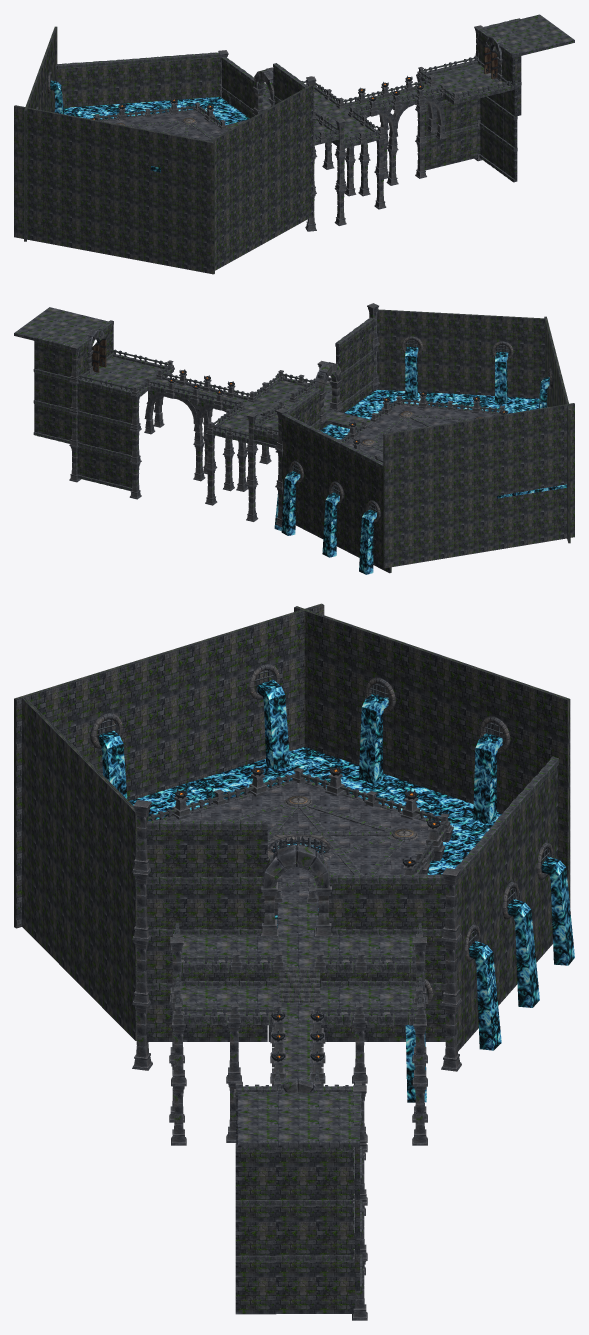
File: LevelBoss.gltf
3 renders of one model, top to bottom at view 1: azimuth 30°, elevation 25°; view 2: azimuth 150°, elevation 25°; view 3: azimuth 270°, elevation 25°, orthographic. The views are drawn at different scales.
Parts seen in each view (by area): view 1: Cube (9), Cube (5), Cube (11), P_MOD_Wall_01_E_straight_large (×12), PolyShape, Cube (10), PolyShape (1), P_MOD_Gateway_Arc_01; view 2: Cube (10), Cube (5), P_MOD_Wall_01_E_straight_large (×16), Cube (11), PolyShape, LavaRiver 1 (×3), Cube (9), PolyShape (2), LavaRiver 1 (3), LavaRiver 1 (2), PolyShape (1), P_MOD_Gateway_Arc_01; view 3: P_MOD_Wall_01_E_straight_large (×22), Cube (10), Cube (9), Cube (5), Cube (11), LavaRiver 1 (×6), PolyShape, PolyShape (1), PolyShape (2), P_MOD_Gateway_Arc_01, P_MOD_Stairs_01_E_straight_3, LavaRiver 1 (1) (+3 smaller).
Boxes of the visible parts, x1,y1,x2,y2 form: Cube (9): (14,105,214,274); Cube (5): (209,85,313,270); Cube (11): (56,57,220,107); P_MOD_Wall_01_E_straight_large (×12): (233,50,517,181); PolyShape: (54,96,249,124); Cube (10): (24,26,57,241); PolyShape (1): (102,111,224,138); P_MOD_Gateway_Arc_01: (254,69,274,100); Cube (10): (383,403,574,568); Cube (5): (376,309,545,398); P_MOD_Wall_01_E_straight_large (×16): (34,339,350,487); Cube (11): (280,418,391,573); PolyShape: (320,389,567,498); LavaRiver 1 (×3): (281,471,376,574); Cube (9): (544,316,570,543); PolyShape (2): (369,404,500,431); LavaRiver 1 (3): (405,347,418,398); LavaRiver 1 (2): (495,352,508,403); PolyShape (1): (345,425,395,460); P_MOD_Gateway_Arc_01: (315,362,341,393); P_MOD_Wall_01_E_straight_large (×22): (146,829,446,1314); Cube (10): (294,606,570,907); Cube (9): (14,603,324,928); Cube (5): (22,697,137,1040); Cube (11): (455,766,558,1051); LavaRiver 1 (×6): (257,679,574,1050); PolyShape: (129,747,501,928); PolyShape (1): (297,782,429,899); PolyShape (2): (167,782,299,899); P_MOD_Gateway_Arc_01: (263,844,329,888); P_MOD_Stairs_01_E_straight_3: (279,967,320,1002); LavaRiver 1 (1): (97,730,127,799).
Size of what is drawn, in the model's own units: 106 by 34.82 by 54.95.
Materials: 9 (9 with a texture image).
